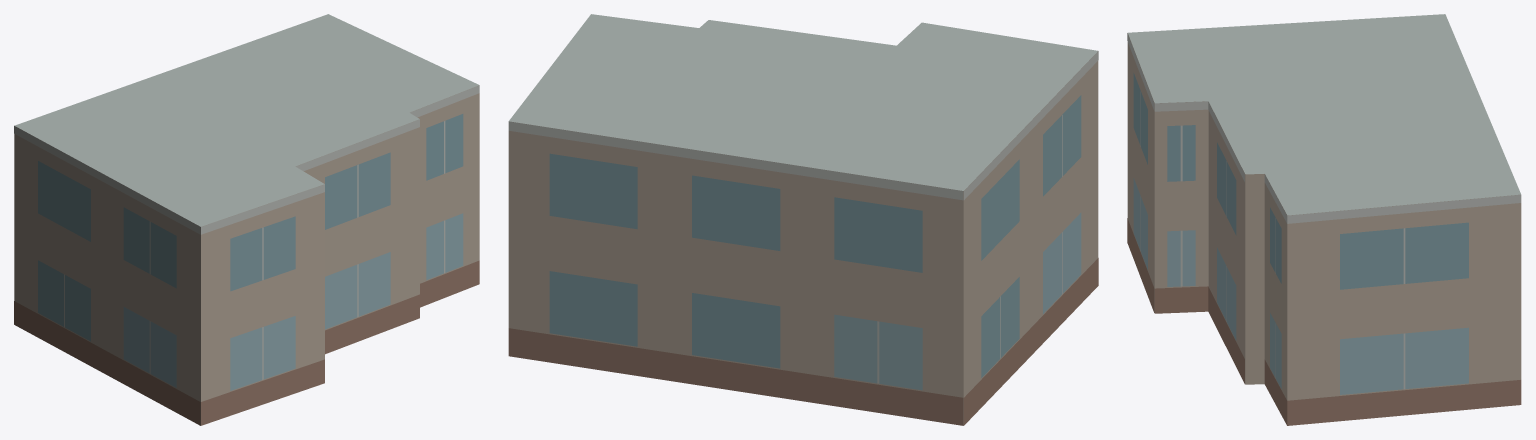
File: survey-upis-32795327.glb
3 views of the same model, side by side, from view 1: azimuth 30°, elevation 25°; view 2: azimuth 150°, elevation 25°; view 3: azimuth 270°, elevation 25° (orthographic). The views are drawn at different scales.
Parts seen in each view (by area): view 1: survey-upis-32795327.tmp; view 2: survey-upis-32795327.tmp; view 3: survey-upis-32795327.tmp.
Part boxes in pixels (x1,y1,x2,y2): survey-upis-32795327.tmp: [14, 14, 479, 425]; survey-upis-32795327.tmp: [508, 14, 1098, 425]; survey-upis-32795327.tmp: [1127, 14, 1521, 425].
Size of the model in its own units: 12.54 by 6.1 by 10.36.
